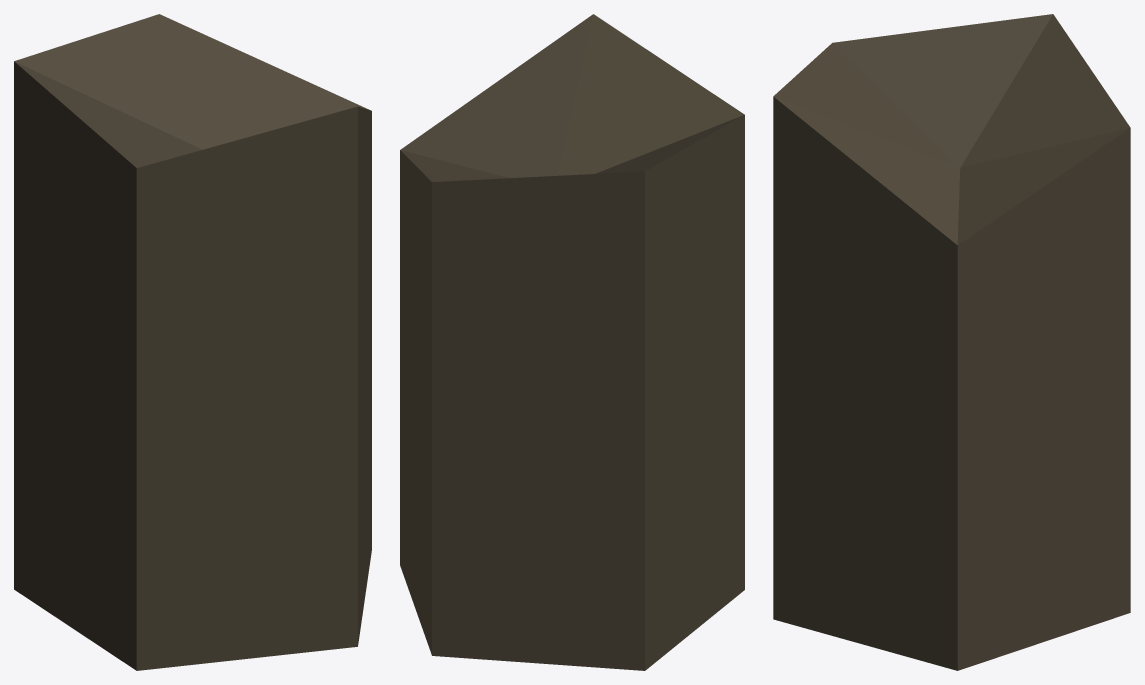
Rendered from DT_TORCH_V1.OBJ.
3 views of the same model, side by side, from view 1: azimuth 30°, elevation 25°; view 2: azimuth 150°, elevation 25°; view 3: azimuth 270°, elevation 25° (orthographic). The views are drawn at different scales.
Parts seen in each view (by area): view 1: DT_TORCH_V1; view 2: DT_TORCH_V1; view 3: DT_TORCH_V1.
Boxes of the visible parts, box(x1,y1,x2,y2) form: DT_TORCH_V1: box(14, 14, 371, 670); DT_TORCH_V1: box(400, 14, 744, 670); DT_TORCH_V1: box(773, 14, 1130, 670).
Bounding box in the file's own units: 0.1833 × 0.3068 × 0.19.
